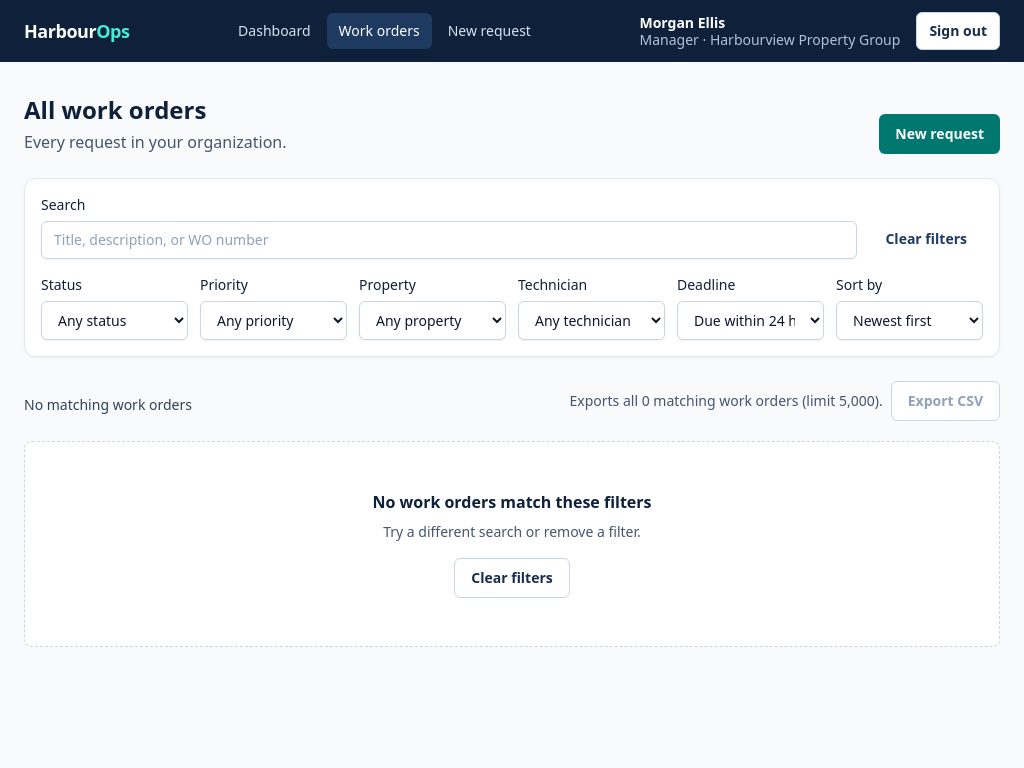
Test: WorkOrderListPage › offers a way out when filters match nothing
Check: the text "No work orders match these filters" is shown, box [372, 491, 652, 513]
Click the button "Clear filters" below "No work orders match these filters". click: x=512, y=578
box: [454, 558, 570, 598]
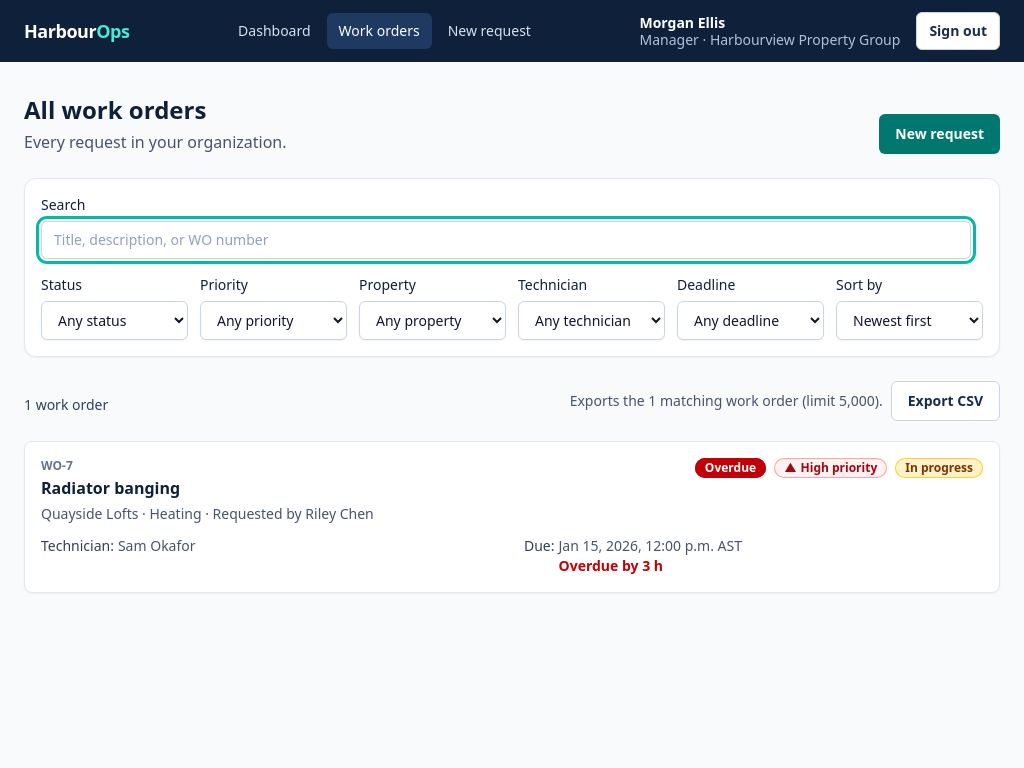
Check: the link "Radiator banging" is shown, box [41, 477, 180, 499]
